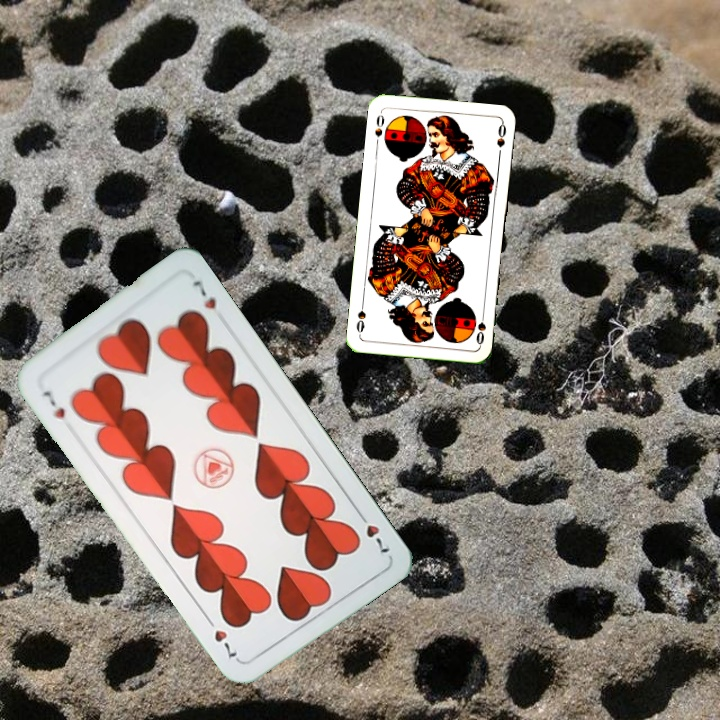H7: (353, 506, 392, 556), (38, 386, 68, 422)
SO: (472, 307, 489, 348), (371, 108, 387, 149)
